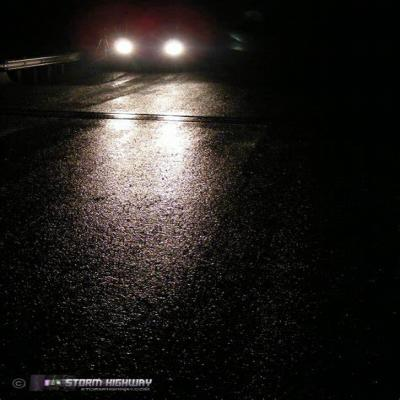iced-road: (2, 72, 314, 394)
